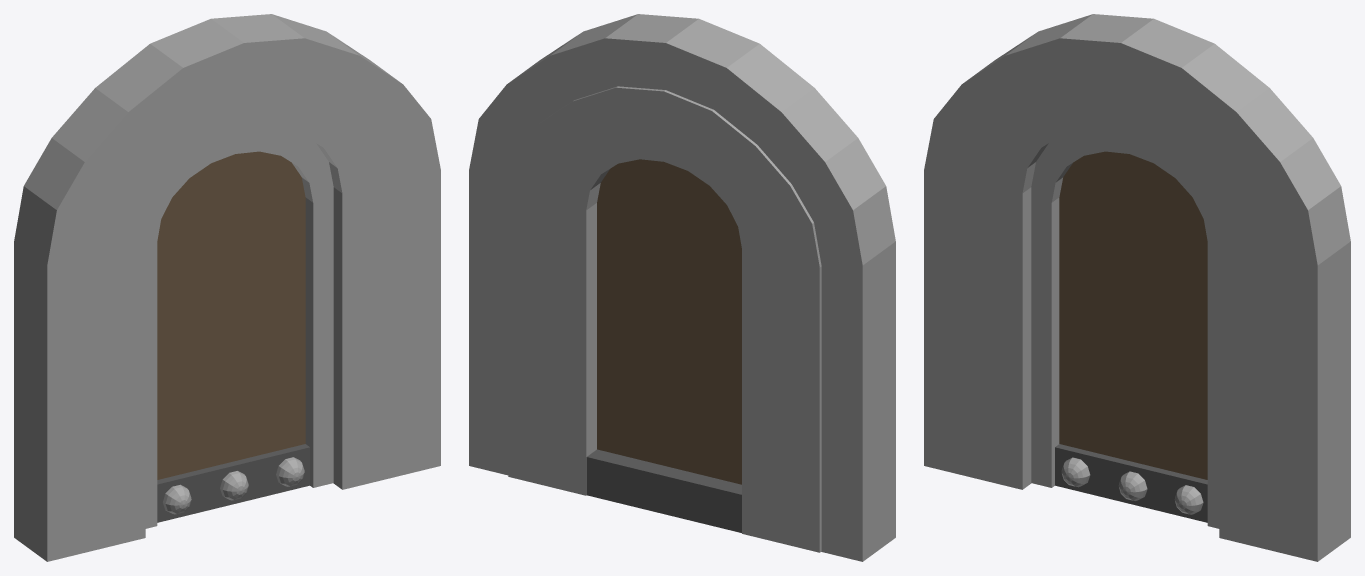
The model's file is env_CastleDoor.fbx.
3 renders of one model, left to right at view 1: azimuth 30°, elevation 25°; view 2: azimuth 150°, elevation 25°; view 3: azimuth 330°, elevation 25°, orthographic.
Visible parts, largest first — view 1: env_CastleDoor_01; view 2: env_CastleDoor_01; view 3: env_CastleDoor_01.
Boxes of the visible parts, x1,y1,x2,y2 form: env_CastleDoor_01: (14,14,440,561); env_CastleDoor_01: (469,14,895,561); env_CastleDoor_01: (924,14,1350,561).
Bounding box in the file's own units: 430 × 492 × 66.28.
